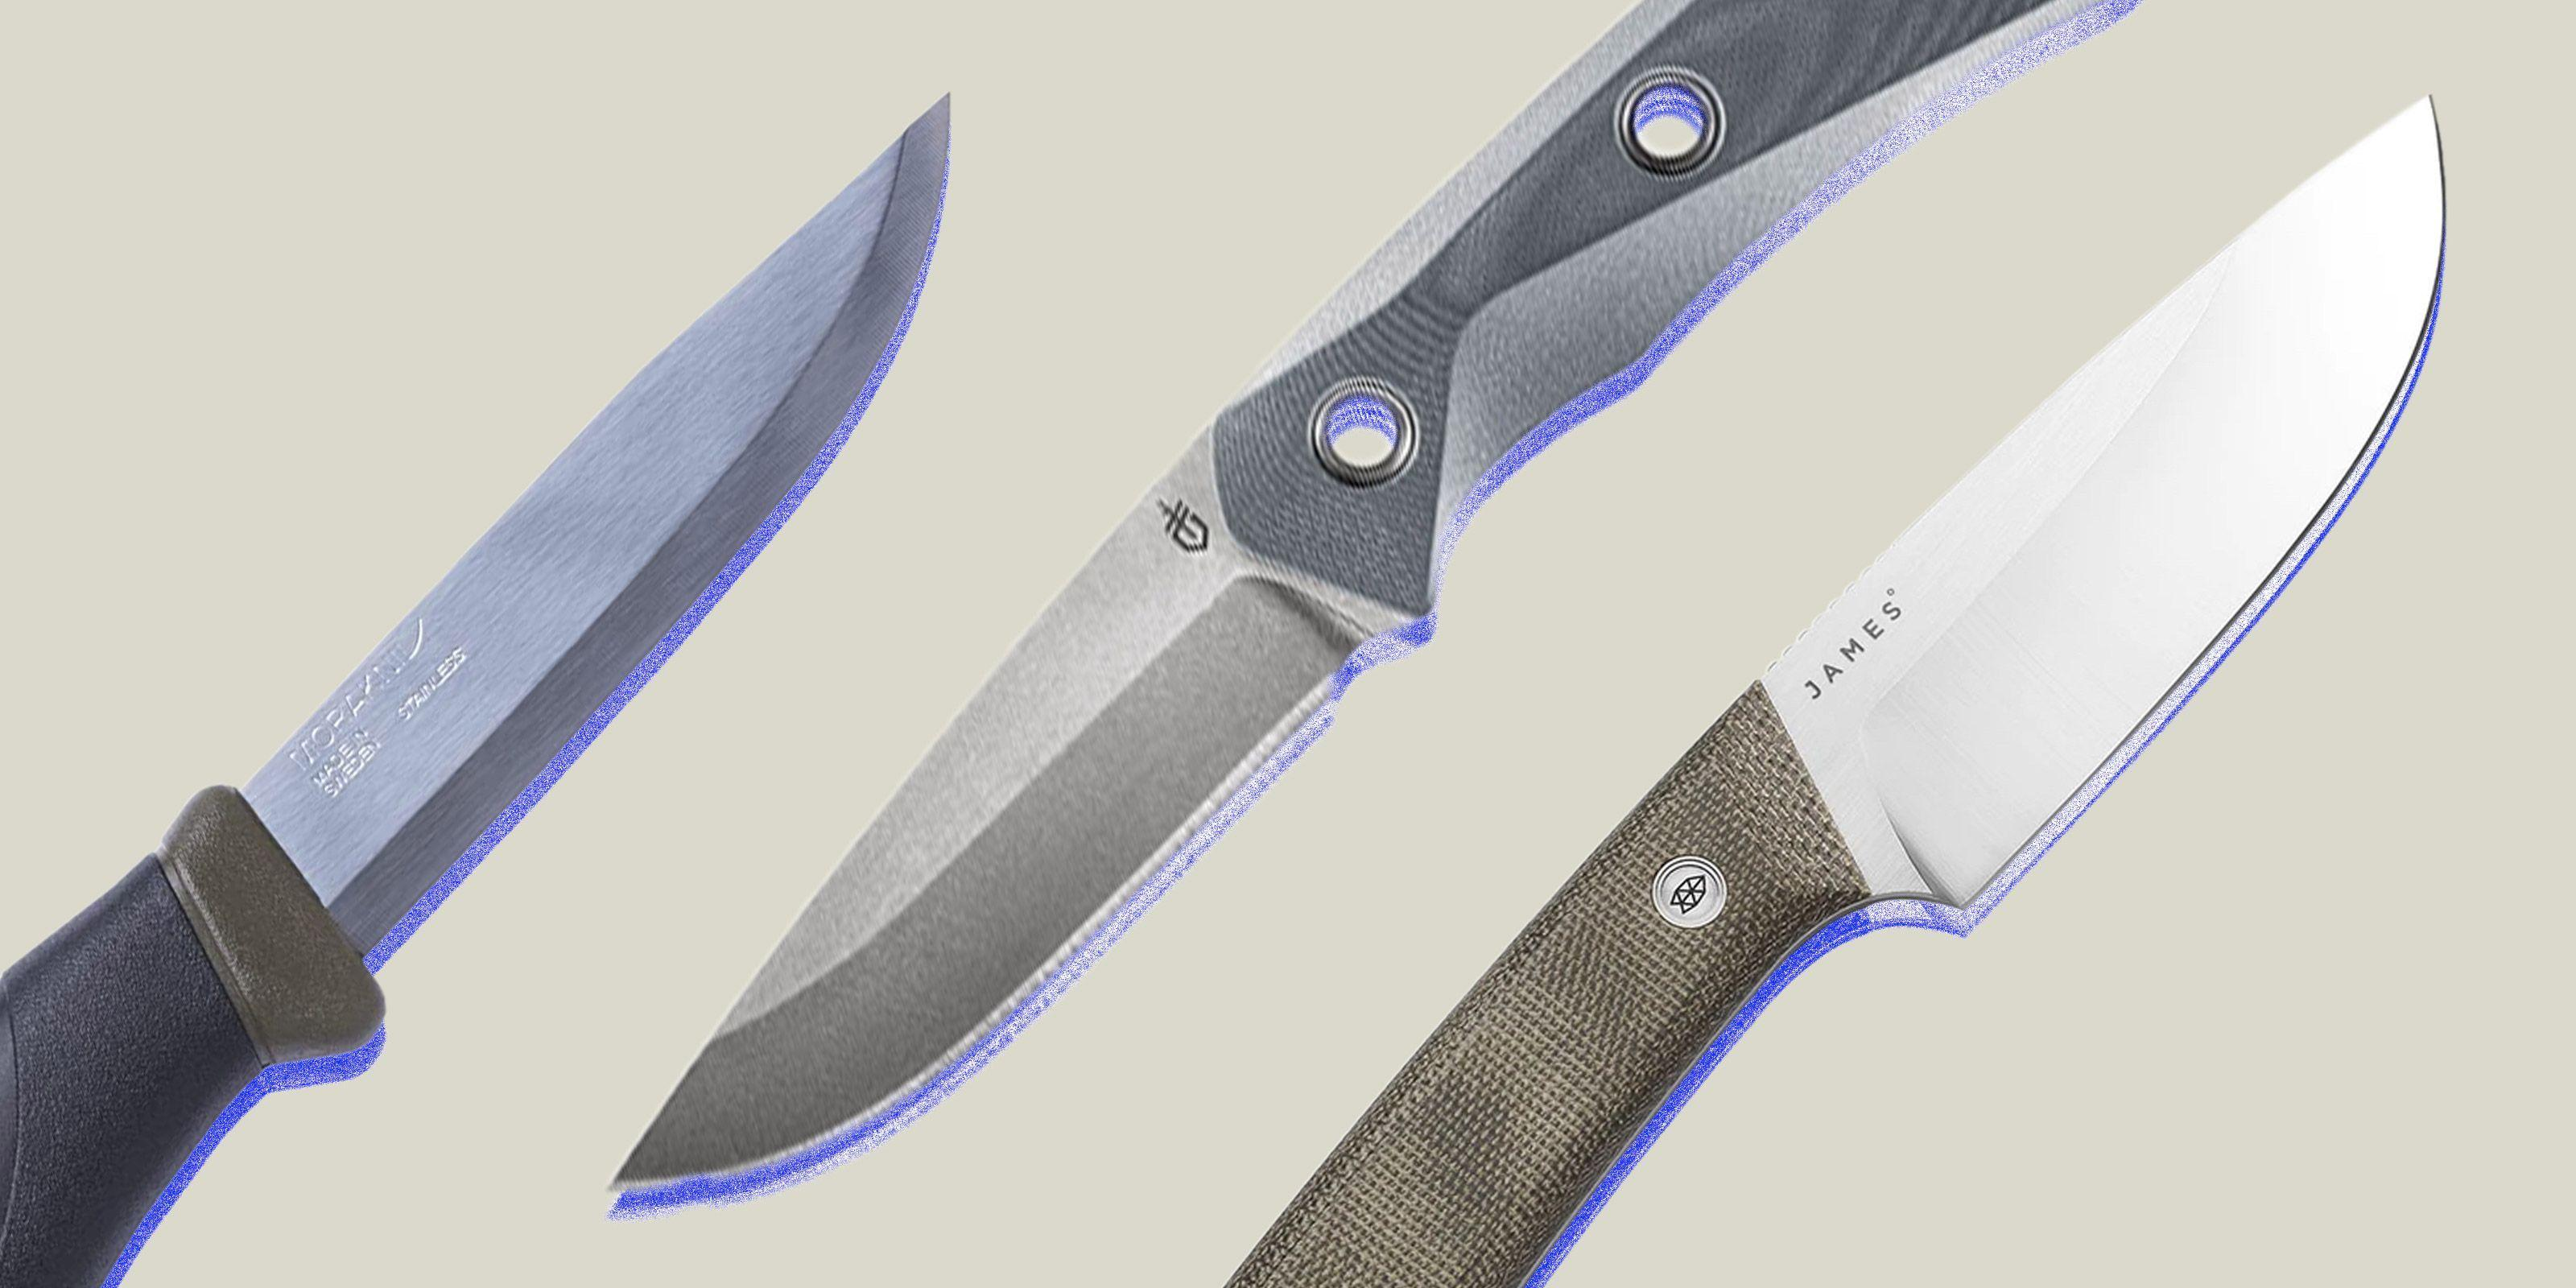faca: (616, 0, 2091, 1196), (1231, 100, 2443, 1288), (0, 97, 950, 1288)
